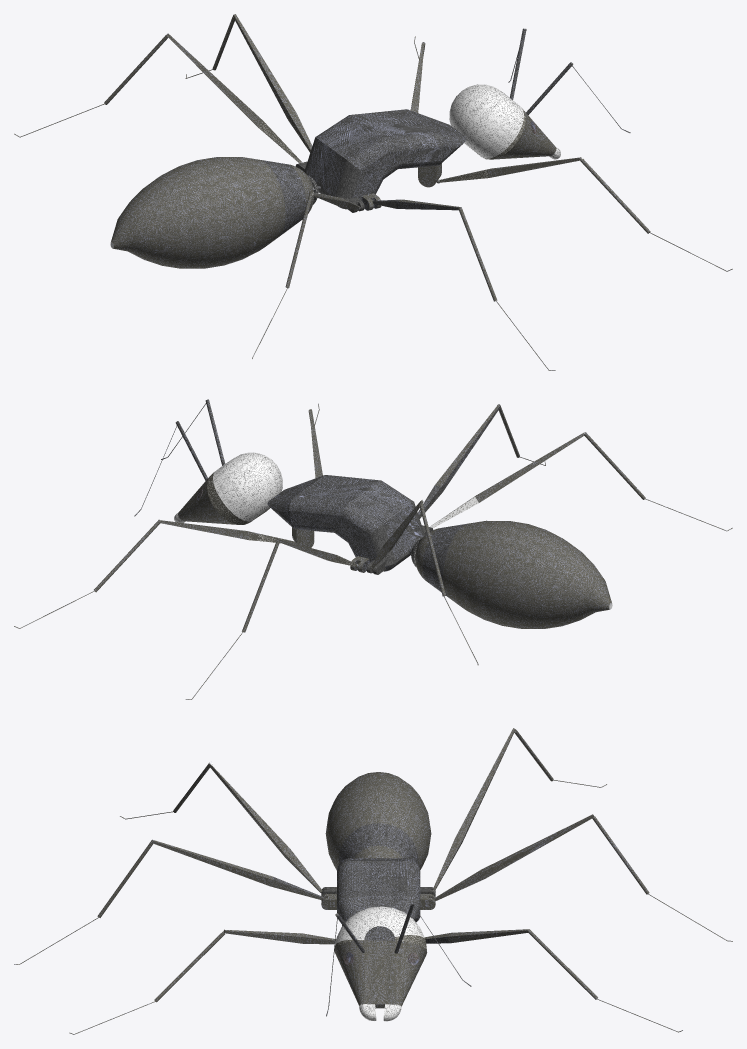
3 renders of one model, top to bottom at view 1: azimuth 30°, elevation 25°; view 2: azimuth 150°, elevation 25°; view 3: azimuth 270°, elevation 25°, orthographic. The views are drawn at different scales.
Parts seen in each view (by area): view 1: SketchUp (×9); view 2: SketchUp (×11); view 3: SketchUp (×11).
Boxes of the visible parts, x1,y1,x2,y2 form: SketchUp (×9): (111,14,581,268); SketchUp (×11): (160,406,611,628); SketchUp (×11): (152,728,594,1008).
Size of the model in its own units: 426 by 556 by 151.
Materials: 5 (3 with a texture image).
